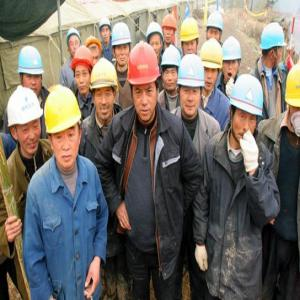blue: (230, 75, 263, 145), (178, 54, 205, 118), (19, 47, 43, 96), (262, 22, 285, 73), (222, 38, 243, 84), (112, 23, 132, 68), (161, 46, 180, 93), (206, 8, 226, 44), (146, 23, 163, 57), (67, 27, 82, 58), (100, 16, 112, 44)
red: (128, 41, 160, 119), (73, 49, 93, 96), (163, 14, 178, 44)
white: (8, 86, 42, 155)
yellow: (46, 88, 82, 172), (92, 60, 119, 120), (201, 42, 221, 96), (285, 65, 300, 131), (181, 16, 201, 57)
